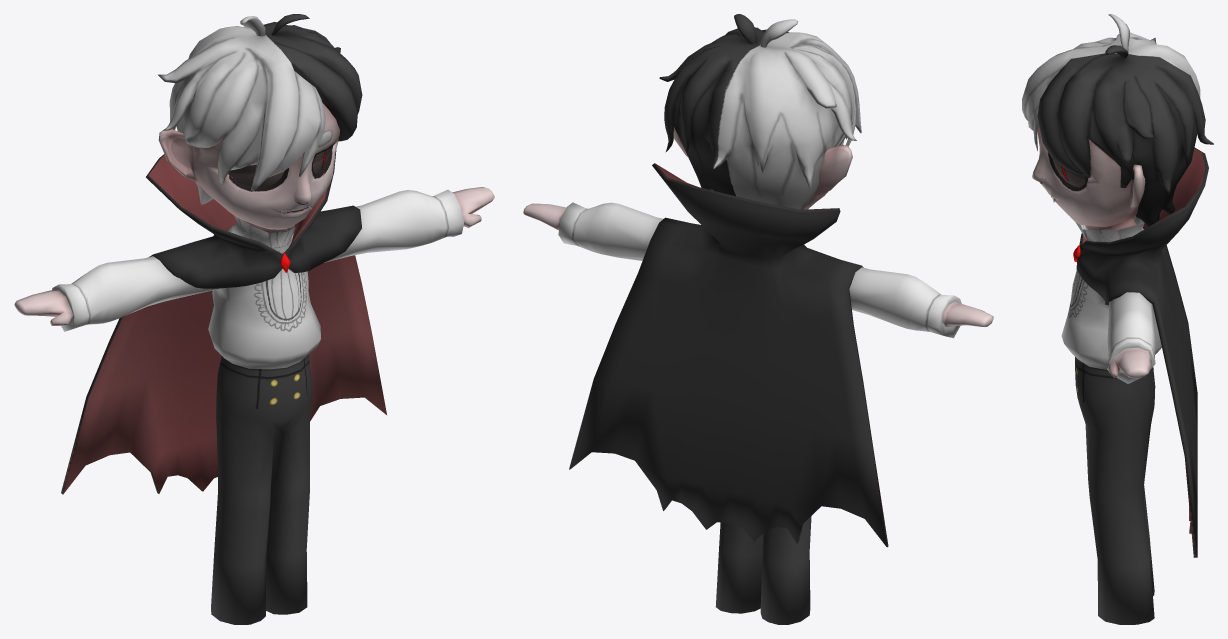
File: Vampire B.fbx
3 renders of one model, left to right at view 1: azimuth 30°, elevation 25°; view 2: azimuth 150°, elevation 25°; view 3: azimuth 270°, elevation 25°, orthographic. The views are drawn at different scales.
Parts seen in each view (by area): view 1: Vampire B; view 2: Vampire B; view 3: Vampire B.
Boxes of the visible parts, x1,y1,x2,y2 form: Vampire B: (14,14,494,624); Vampire B: (523,14,993,624); Vampire B: (1022,14,1213,624).
Bounding box in the file's own units: 143 × 173 × 51.89.
1 material, 1 textured.
